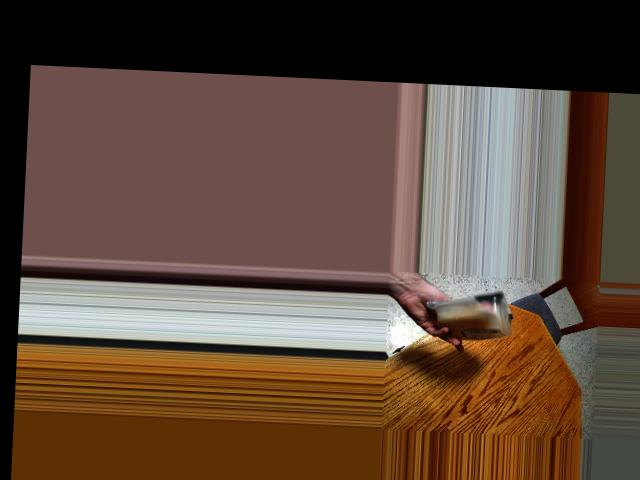cheese: (439, 294, 507, 340)
